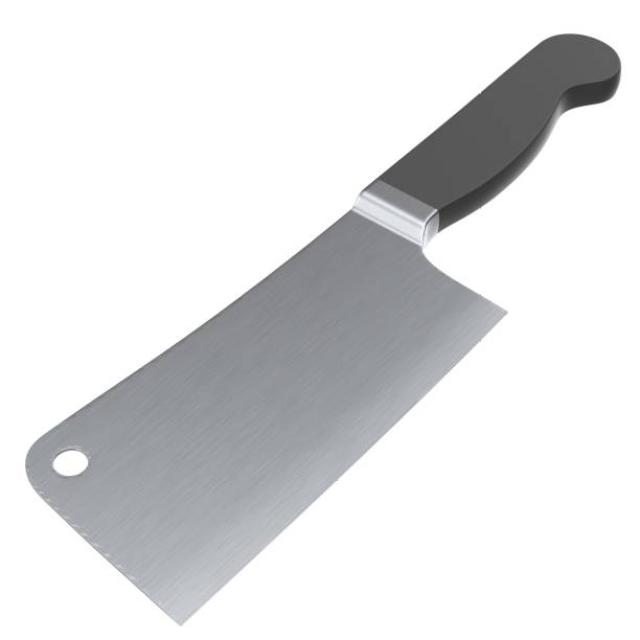knife: (22, 26, 626, 635)
